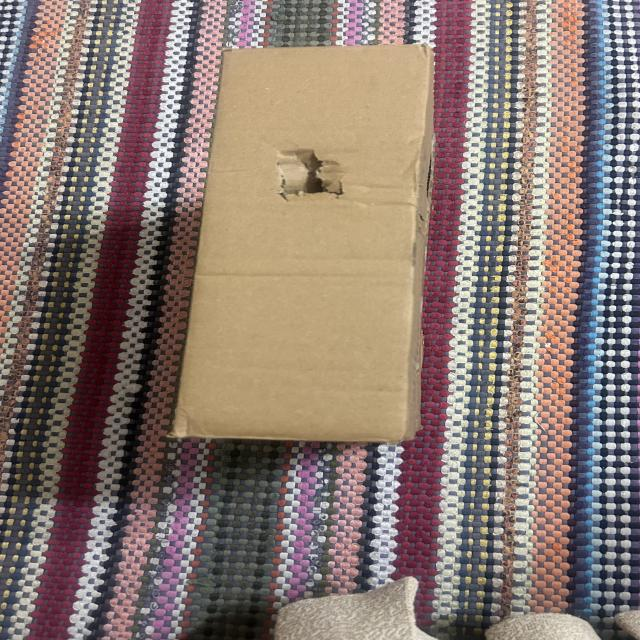damaged: (181, 41, 434, 452), (260, 132, 352, 210)
